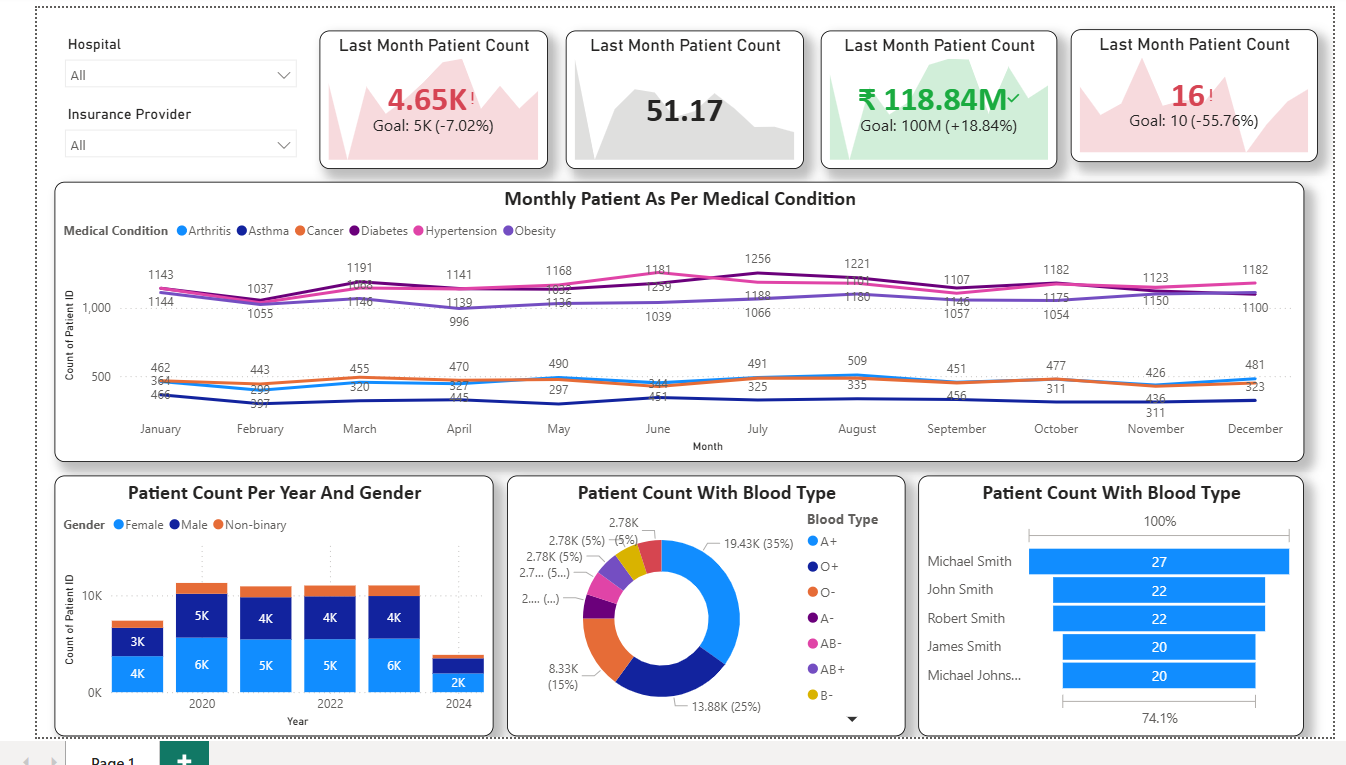

Layout of this report page (visuals, bound fields, positions):
{"tool":"powerbi","page":{"name":"Page 1","canvas":[1280,720],"ordinal":0},"visuals":[{"type":"kpi","title":"Last Month Patient Count ","fields":{"Indicator":["Count(Data.Patient ID)"],"TrendLine":["Data.Date of Admission.Variation.Date Hierarchy.Month"],"Goal":["Data.Monthl PC Target"]},"box":[279.4,22.8,225.2,136.8],"z":0},{"type":"kpi","title":"Last Month Patient Count ","fields":{"Indicator":["Avg(Data.Age)"],"TrendLine":["Data.Date of Admission.Variation.Date Hierarchy.Month"]},"box":[521.7,22.8,235.2,136.8],"z":1000},{"type":"kpi","title":"Last Month Patient Count ","fields":{"TrendLine":["Data.Date of Admission.Variation.Date Hierarchy.Month"],"Goal":["Data.Billing Target"],"Indicator":["Sum(Data.Billing Amount)"]},"box":[774,22.8,233.8,136.8],"z":2000},{"type":"kpi","title":"Last Month Patient Count ","fields":{"TrendLine":["Data.Date of Admission.Variation.Date Hierarchy.Month"],"Indicator":["Avg(Data.Stay Duration)"],"Goal":["Avg(Data.Duratin Target)"]},"box":[1020.6,21.4,243.7,131.1],"z":3000},{"type":"lineChart","title":"Monthly Patient As Per Medical Condition","fields":{"Category":["Data.Date of Admission.Variation.Date Hierarchy.Month"],"Y":["CountNonNull(Data.Patient ID)"],"Series":["Data.Medical Condition"]},"box":[17.1,171,1234.4,276.5],"z":4000},{"type":"columnChart","title":"Patient Count Per Year And Gender","fields":{"Y":["Count(Data.Patient ID)"],"Category":["Data.Date of Admission.Variation.Date Hierarchy.Year"],"Series":["Data.Gender"]},"box":[17.1,461.8,433.3,258],"z":5000},{"type":"donutChart","title":"Patient Count With Blood Type","fields":{"Y":["Count(Data.Patient ID)"],"Category":["Data.Blood Type"]},"box":[464.7,461.8,393.4,258],"z":6000},{"type":"funnel","title":"Patient Count With Blood Type","fields":{"Y":["Count(Data.Patient ID)"],"Category":["Data.Doctor"]},"box":[870.9,461.8,380.6,258],"z":7000},{"type":"slicer","fields":{"Values":["Data.Hospital"]},"box":[17.1,22.8,249.4,68.4],"z":7001},{"type":"slicer","fields":{"Values":["Data.Insurance Provider"]},"box":[17.1,91.2,249.4,68.4],"z":7002}]}

Visuals, with their boxes in screenshot pixels (x1, y1, x2, y2), scaled from the page's 1280x720 canvas onto the 1346x765 screenshot:
"Last Month Patient Count " kpi: x1=294, y1=24, x2=531, y2=170
"Last Month Patient Count " kpi: x1=549, y1=24, x2=796, y2=170
"Last Month Patient Count " kpi: x1=814, y1=24, x2=1060, y2=170
"Last Month Patient Count " kpi: x1=1073, y1=23, x2=1329, y2=162
"Monthly Patient As Per Medical Condition" lineChart: x1=18, y1=182, x2=1316, y2=475
"Patient Count Per Year And Gender" columnChart: x1=18, y1=491, x2=474, y2=764
"Patient Count With Blood Type" donutChart: x1=489, y1=491, x2=902, y2=764
"Patient Count With Blood Type" funnel: x1=916, y1=491, x2=1316, y2=764
slicer - Data.Hospital: x1=18, y1=24, x2=280, y2=97
slicer - Data.Insurance Provider: x1=18, y1=97, x2=280, y2=170
